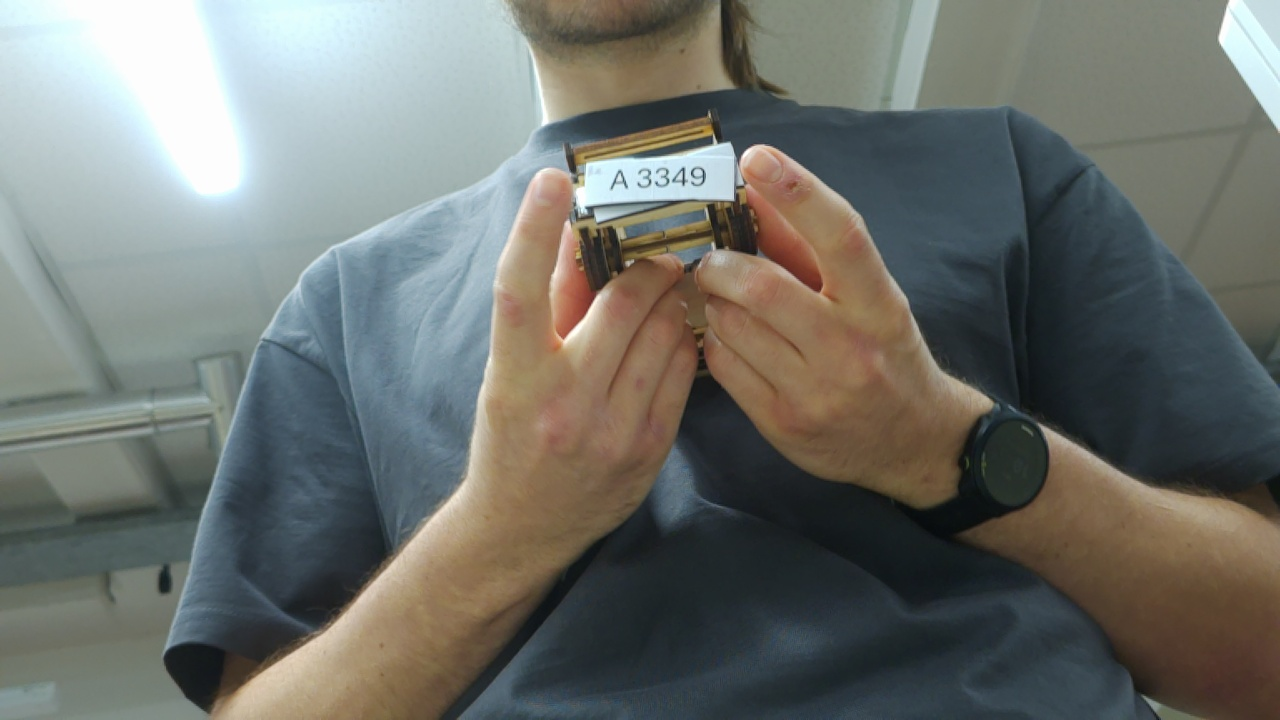license_plate: (572, 151, 751, 202)
